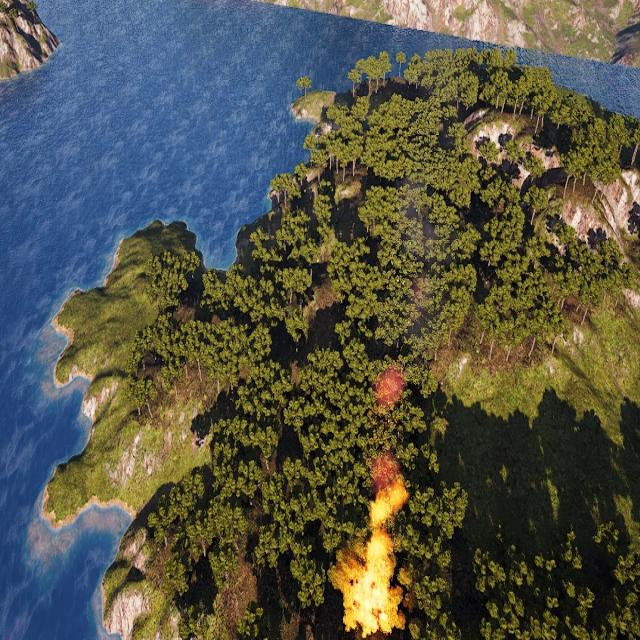fire: (342, 538, 398, 640), (370, 484, 407, 528)
smoke: (375, 364, 406, 414)
